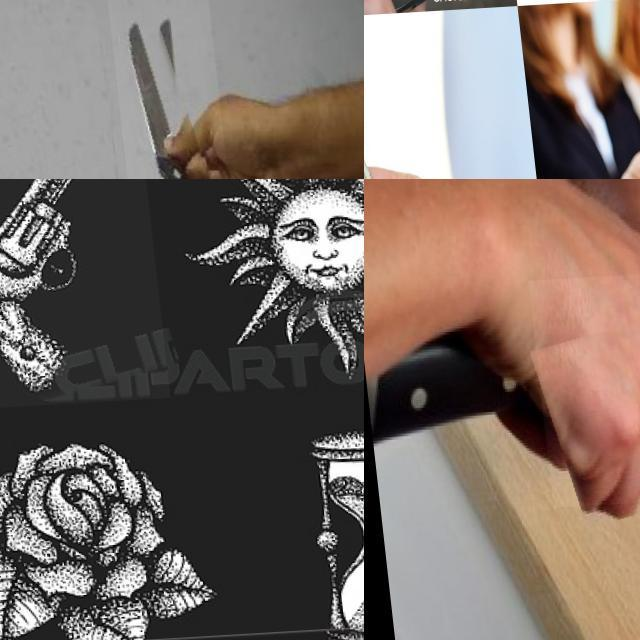-: (521, 261, 640, 509), (104, 0, 239, 179)
gun-knife-thesis - v11 Yolov5 augmented: (0, 179, 162, 411)
